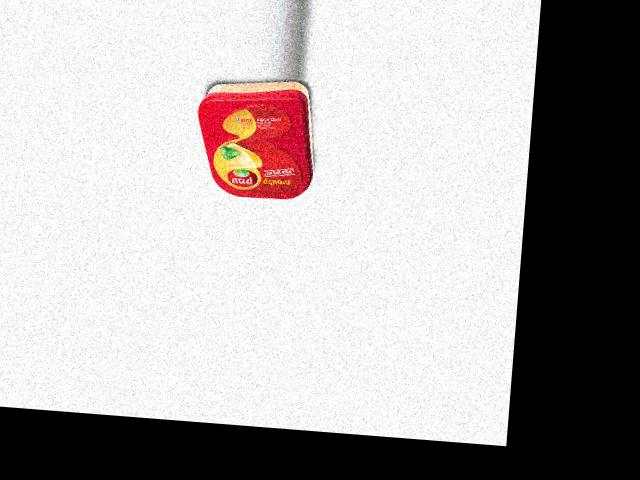cheese: (191, 74, 320, 202)
